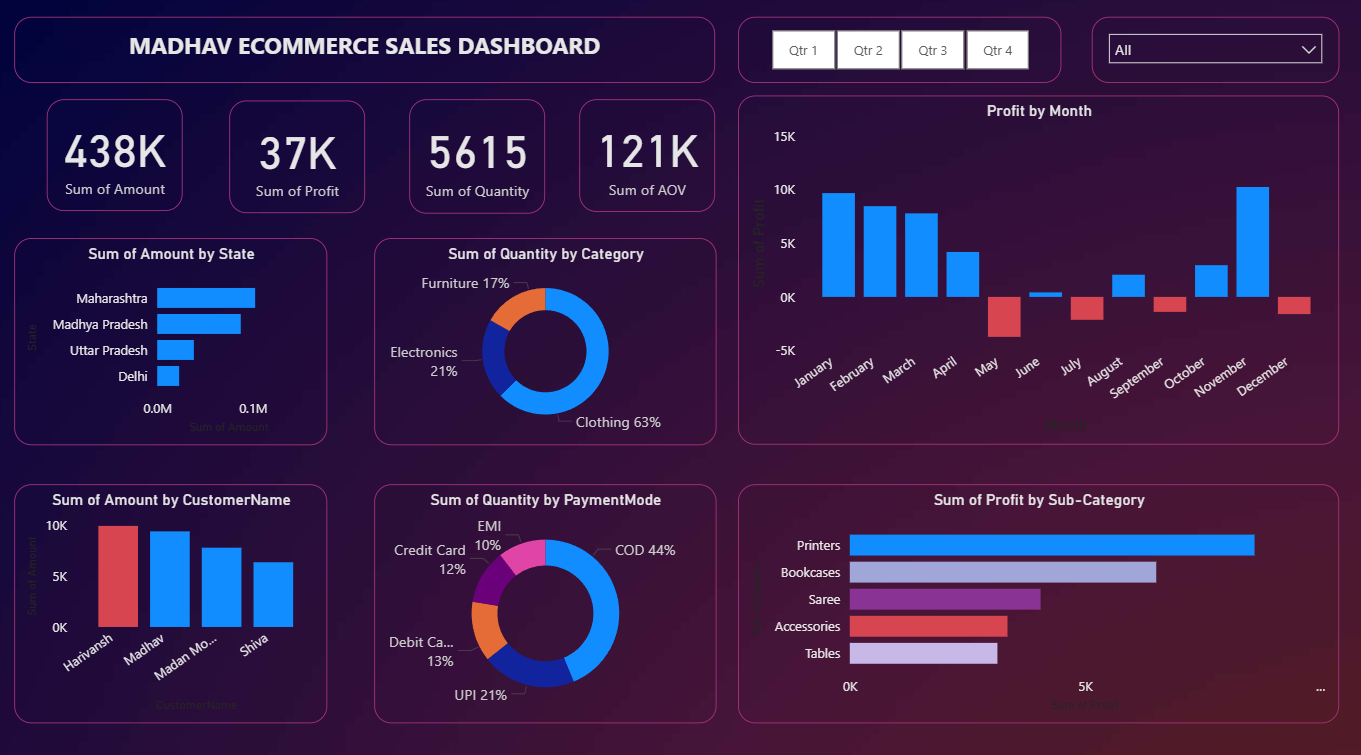

The dashboard page shown, as its layout file describes it:
{"tool":"powerbi","page":{"name":"Page 1","canvas":[1280,720],"ordinal":0},"visuals":[{"type":"textbox","box":[20.2,21.6,652.3,62],"z":0},{"type":"columnChart","title":"Profit by Month","fields":{"Y":["Details.Profit"],"Category":["Orders.Order Date.Variation.Date Hierarchy.Month"]},"box":[692.7,95.7,559.3,324.8],"z":1000},{"type":"barChart","fields":{"Y":["Details.Profit"],"Category":["Details.Sub-Category"]},"box":[692.7,456.9,559.3,222.4],"z":2000},{"type":"donutChart","fields":{"Category":["Details.PaymentMode"],"Y":["Details.Quantity"]},"box":[354.4,456.9,318,222.4],"z":3000},{"type":"donutChart","fields":{"Category":["Details.Category"],"Y":["Details.Quantity"]},"box":[354.4,227.8,318,192.7],"z":4000},{"type":"card","fields":{"Values":["Details.Amount"]},"box":[49.9,98.4,126.7,103.8],"z":5000},{"type":"card","fields":{"Values":["Details.Profit"]},"box":[219.7,99.7,126.7,105.1],"z":6000},{"type":"card","fields":{"Values":["Details.Quantity"]},"box":[386.8,98.4,126.7,106.5],"z":7000},{"type":"card","fields":{"Values":["Details.AOV"]},"box":[545.8,98.4,126.7,105.1],"z":8000},{"type":"barChart","fields":{"Category":["Orders.State"],"Y":["Details.Amount"]},"box":[20.2,227.8,291.1,192.7],"z":9000},{"type":"columnChart","fields":{"Category":["Orders.CustomerName"],"Y":["Details.Amount"]},"box":[20.2,456.9,291.1,222.4],"z":10000},{"type":"slicer","fields":{"Values":["Orders.Order Date.Variation.Date Hierarchy.Quarter"]},"box":[692.7,21.6,300.5,62],"z":11000},{"type":"slicer","fields":{"Values":["Orders.State"]},"box":[1021.5,21.6,230.4,62],"z":12000}]}

Visuals, with their boxes in screenshot pixels (x1, y1, x2, y2), scaled from the page's 1280x720 canvas onto the 1361x755 screenshot:
textbox: {"left": 21, "top": 23, "right": 715, "bottom": 88}
"Profit by Month" columnChart: {"left": 737, "top": 100, "right": 1331, "bottom": 441}
barChart - Details.Profit x Details.Sub-Category: {"left": 737, "top": 479, "right": 1331, "bottom": 712}
donutChart - Details.PaymentMode x Details.Quantity: {"left": 377, "top": 479, "right": 715, "bottom": 712}
donutChart - Details.Category x Details.Quantity: {"left": 377, "top": 239, "right": 715, "bottom": 441}
card - Details.Amount: {"left": 53, "top": 103, "right": 188, "bottom": 212}
card - Details.Profit: {"left": 234, "top": 105, "right": 368, "bottom": 215}
card - Details.Quantity: {"left": 411, "top": 103, "right": 546, "bottom": 215}
card - Details.AOV: {"left": 580, "top": 103, "right": 715, "bottom": 213}
barChart - Orders.State x Details.Amount: {"left": 21, "top": 239, "right": 331, "bottom": 441}
columnChart - Orders.CustomerName x Details.Amount: {"left": 21, "top": 479, "right": 331, "bottom": 712}
slicer - Orders.Order Date.Variation.Date Hierarchy.Quarter: {"left": 737, "top": 23, "right": 1056, "bottom": 88}
slicer - Orders.State: {"left": 1086, "top": 23, "right": 1331, "bottom": 88}
